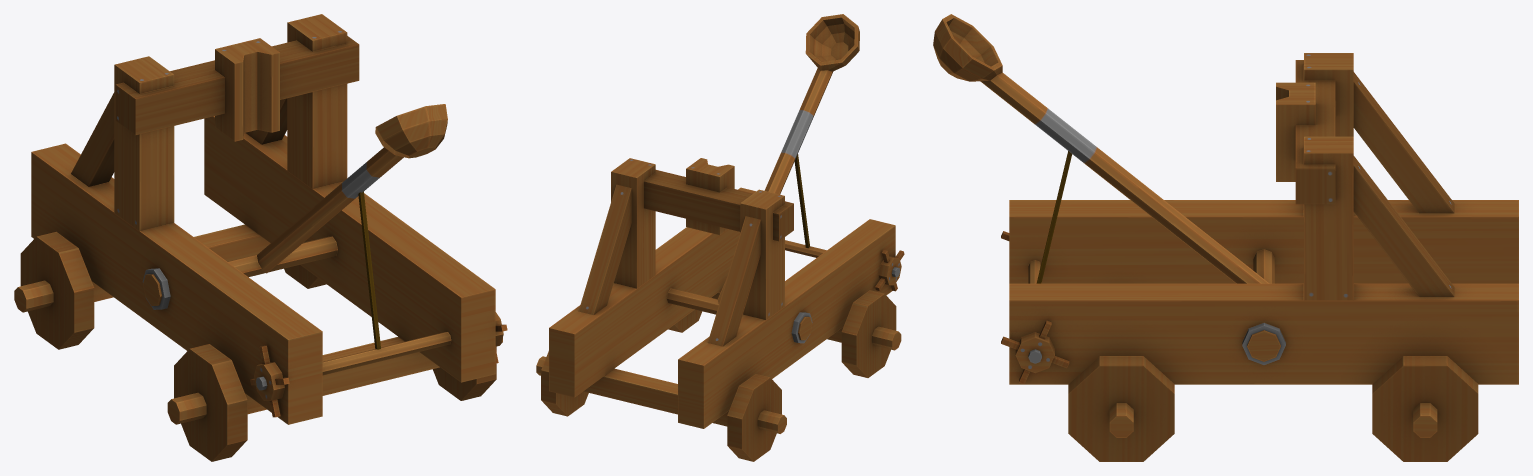
The model's file is Catapult.glb.
3 renders of one model, left to right at view 1: azimuth 30°, elevation 25°; view 2: azimuth 150°, elevation 25°; view 3: azimuth 270°, elevation 25°, orthographic. The views are drawn at different scales.
Visible parts, largest first — view 1: Catapult_mesh; view 2: Catapult_mesh; view 3: Catapult_mesh.
Boxes of the visible parts, x1,y1,x2,y2 form: Catapult_mesh: [14, 14, 507, 461]; Catapult_mesh: [536, 14, 904, 461]; Catapult_mesh: [933, 14, 1518, 461].
Size of the model in its own units: 9.35 by 10.52 by 14.79.
Materials: 1 (1 with a texture image).
